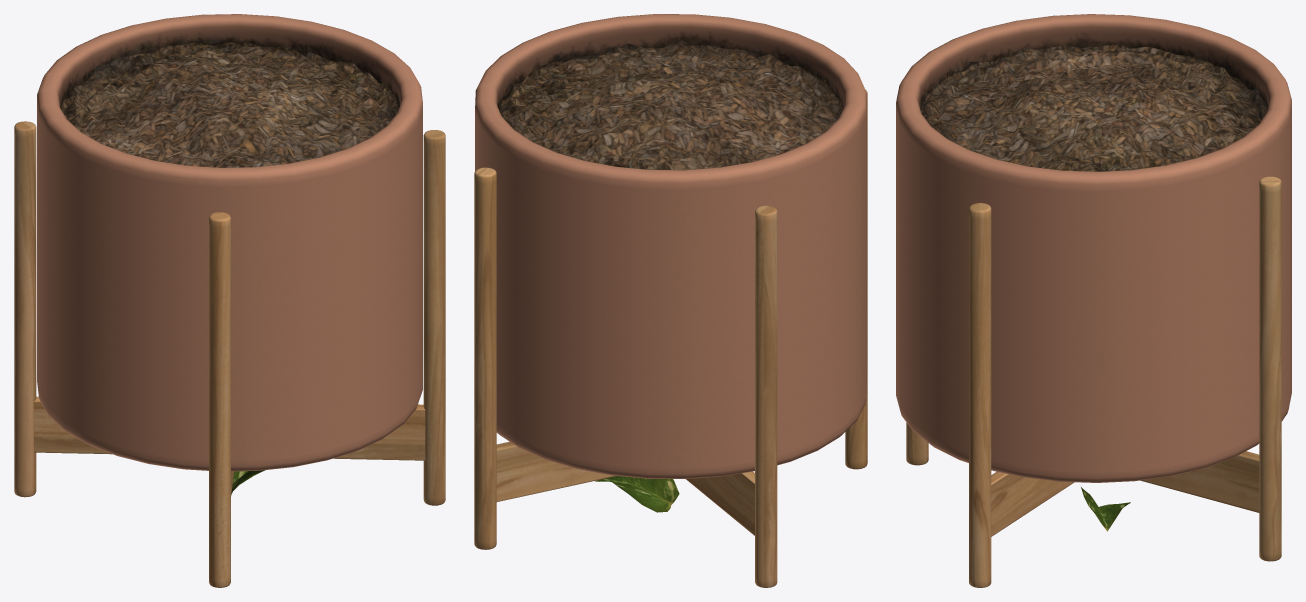
The model's file is plant.glb.
3 renders of one model, left to right at view 1: azimuth 30°, elevation 25°; view 2: azimuth 150°, elevation 25°; view 3: azimuth 270°, elevation 25°, orthographic. The views are drawn at different scales.
Visible parts, largest first — view 1: pot; view 2: pot, leaf; view 3: pot, leaf.
Boxes of the visible parts, x1=… form: pot: x1=14, y1=14, x2=445, y2=587; pot: x1=474, y1=14, x2=867, y2=587; leaf: x1=595, y1=476, x2=679, y2=512; pot: x1=896, y1=14, x2=1291, y2=587; leaf: x1=1081, y1=487, x2=1130, y2=531.
Bounding box in the file's own units: 0.44 × 0.515 × 0.44.
Materials: 2 (2 with a texture image).
